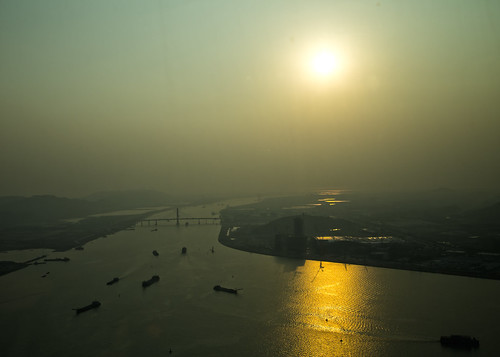building: (130, 208, 224, 229)
river: (17, 222, 500, 357)
sky: (12, 1, 500, 185)
sun: (304, 40, 351, 88)
